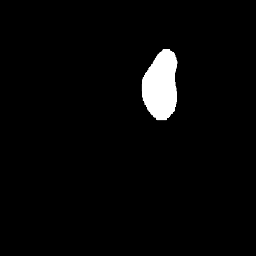mass: (143, 55, 179, 111)
